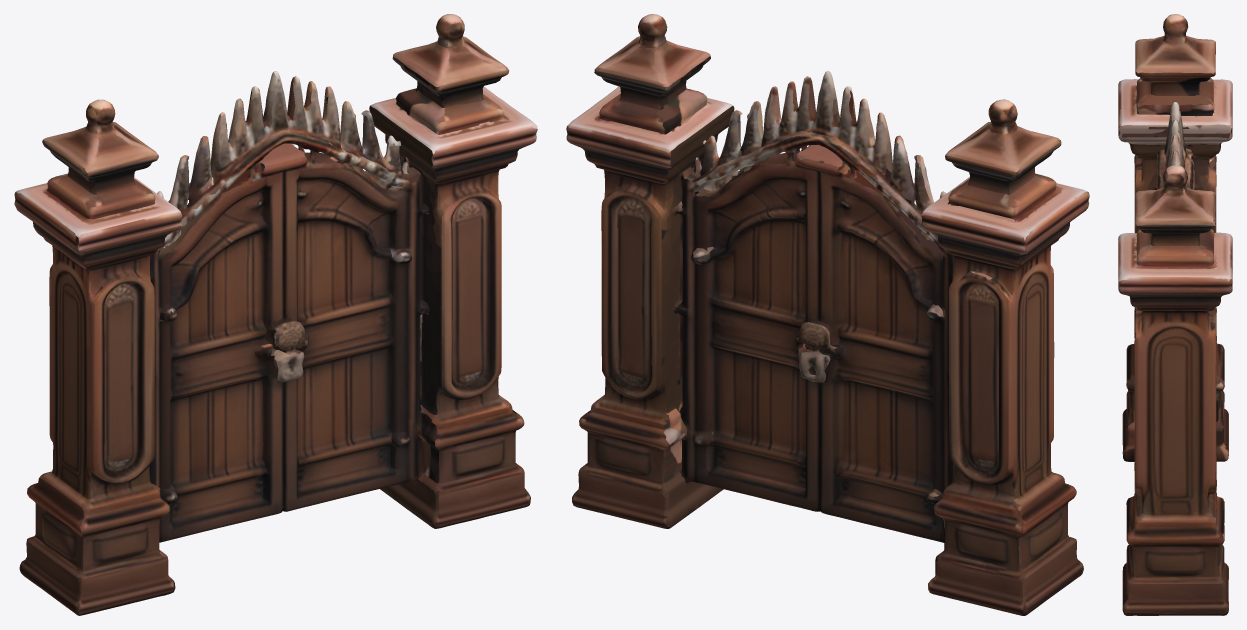
Rendered from porton_madera.glb.
3 views of the same model, side by side, from view 1: azimuth 30°, elevation 25°; view 2: azimuth 150°, elevation 25°; view 3: azimuth 270°, elevation 25° (orthographic). The views are drawn at different scales.
Visible parts, largest first — view 1: tmpsp_0f9w6.ply; view 2: tmpsp_0f9w6.ply; view 3: tmpsp_0f9w6.ply.
Boxes of the visible parts, bbox=[...] form: tmpsp_0f9w6.ply: bbox=[14, 14, 537, 615]; tmpsp_0f9w6.ply: bbox=[566, 14, 1089, 615]; tmpsp_0f9w6.ply: bbox=[1118, 14, 1232, 615].
Bounding box in the file's own units: 0.9935 × 0.993 × 0.2408.
1 material, 1 textured.
